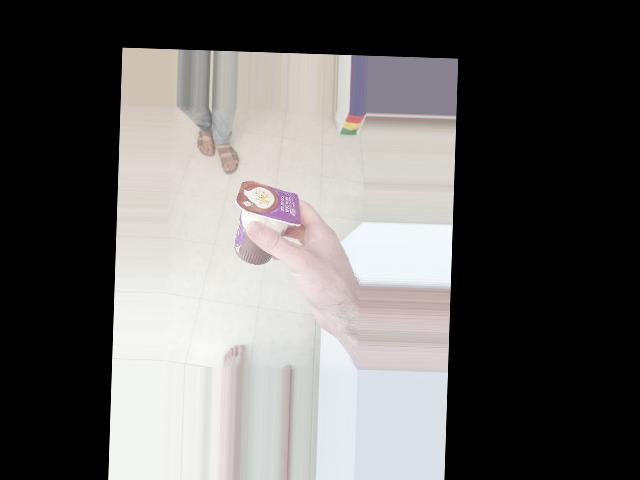milky: (203, 173, 292, 237)
